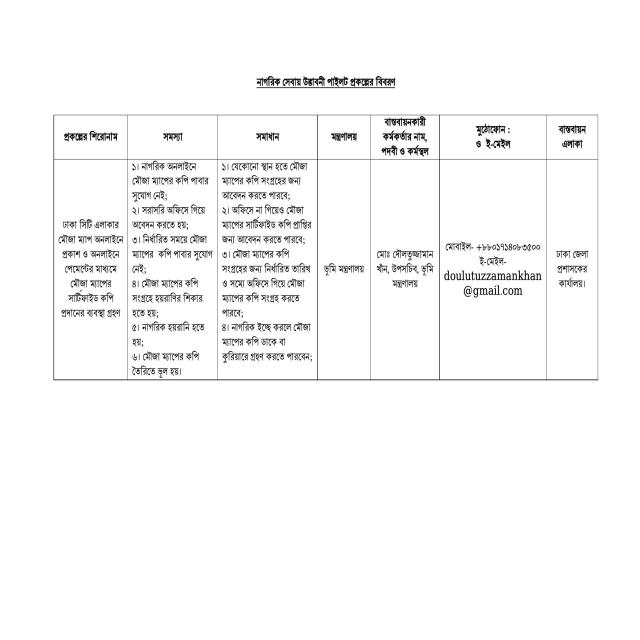table: (52, 112, 600, 384)
text: (58, 217, 124, 322), (220, 247, 312, 319), (443, 240, 543, 300), (220, 321, 313, 366), (220, 202, 313, 247), (220, 160, 309, 202), (130, 232, 214, 275), (131, 160, 210, 203), (131, 277, 204, 319), (375, 247, 435, 293), (380, 115, 430, 158), (131, 320, 205, 349), (131, 204, 206, 232), (131, 350, 200, 379), (554, 248, 592, 291), (474, 122, 512, 151), (61, 127, 120, 144), (557, 123, 588, 151), (322, 261, 365, 277), (329, 130, 359, 143), (254, 130, 281, 142), (163, 133, 182, 142)
title: (255, 72, 398, 90)
